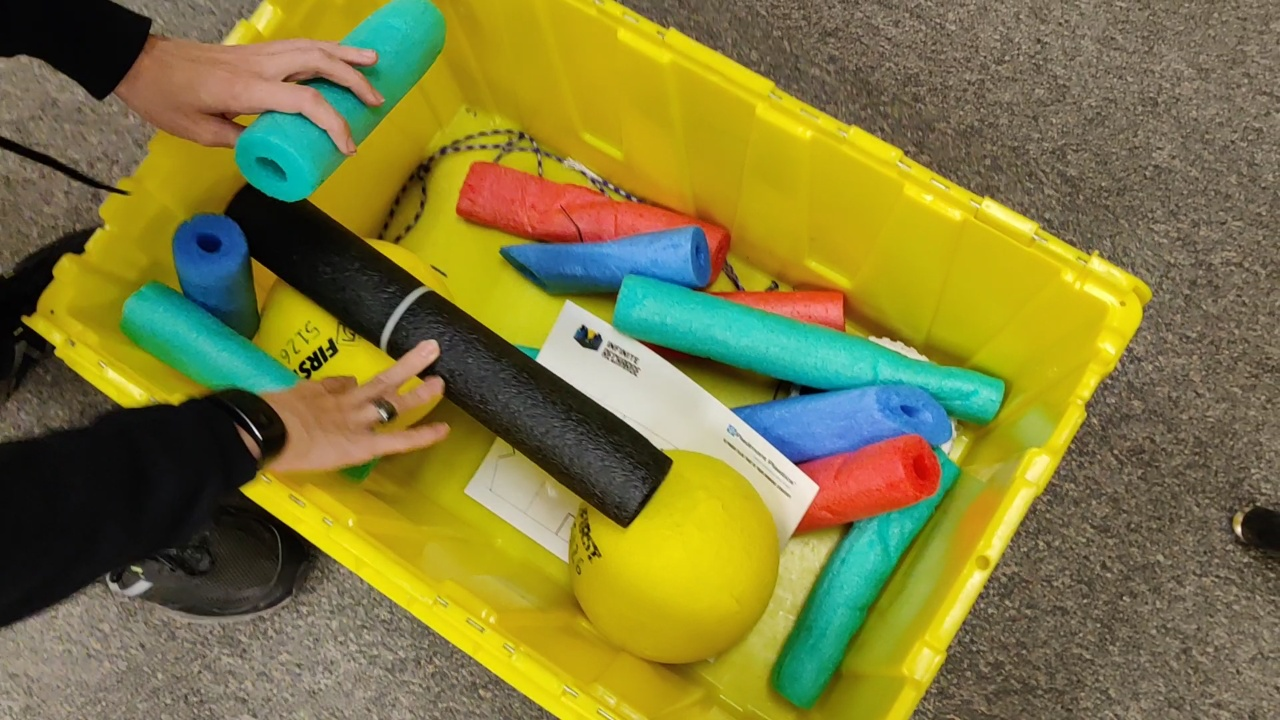Ball: (576, 453, 777, 663)
